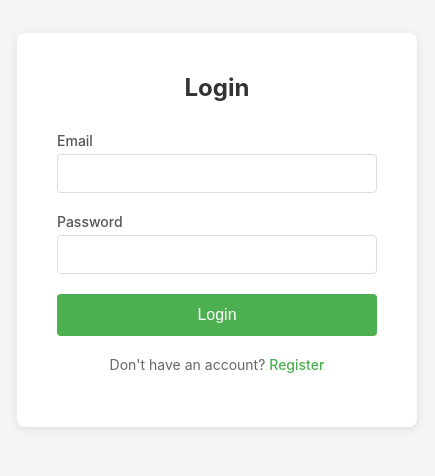
Test: Login Page › should show generic error message when error response has no message
Type "test@test.com" into the field labelled "Email" at point(217, 174), box left=57, top=154, right=377, bottom=193
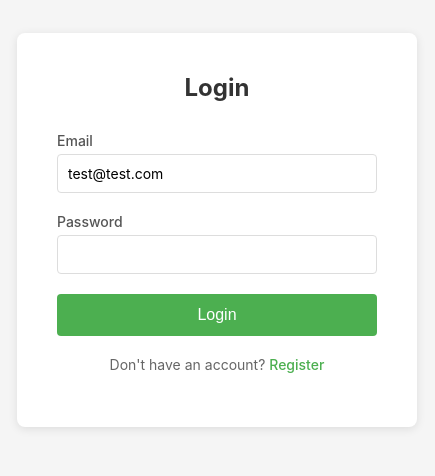
Type "password" into the password field labelled "Password" at point(217, 254), box left=57, top=235, right=377, bottom=274
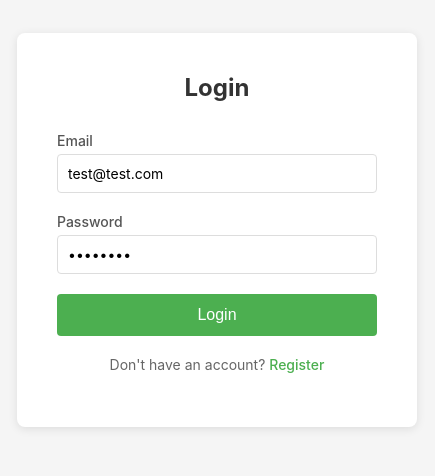
Click the button "Login" at point(217, 315), box left=57, top=294, right=377, bottom=336
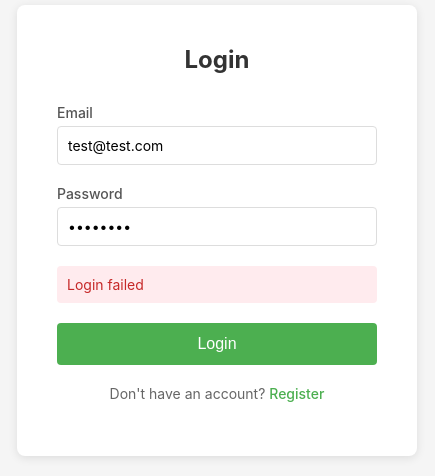
Expected: the text "Login failed" is shown, left=57, top=266, right=377, bottom=302
